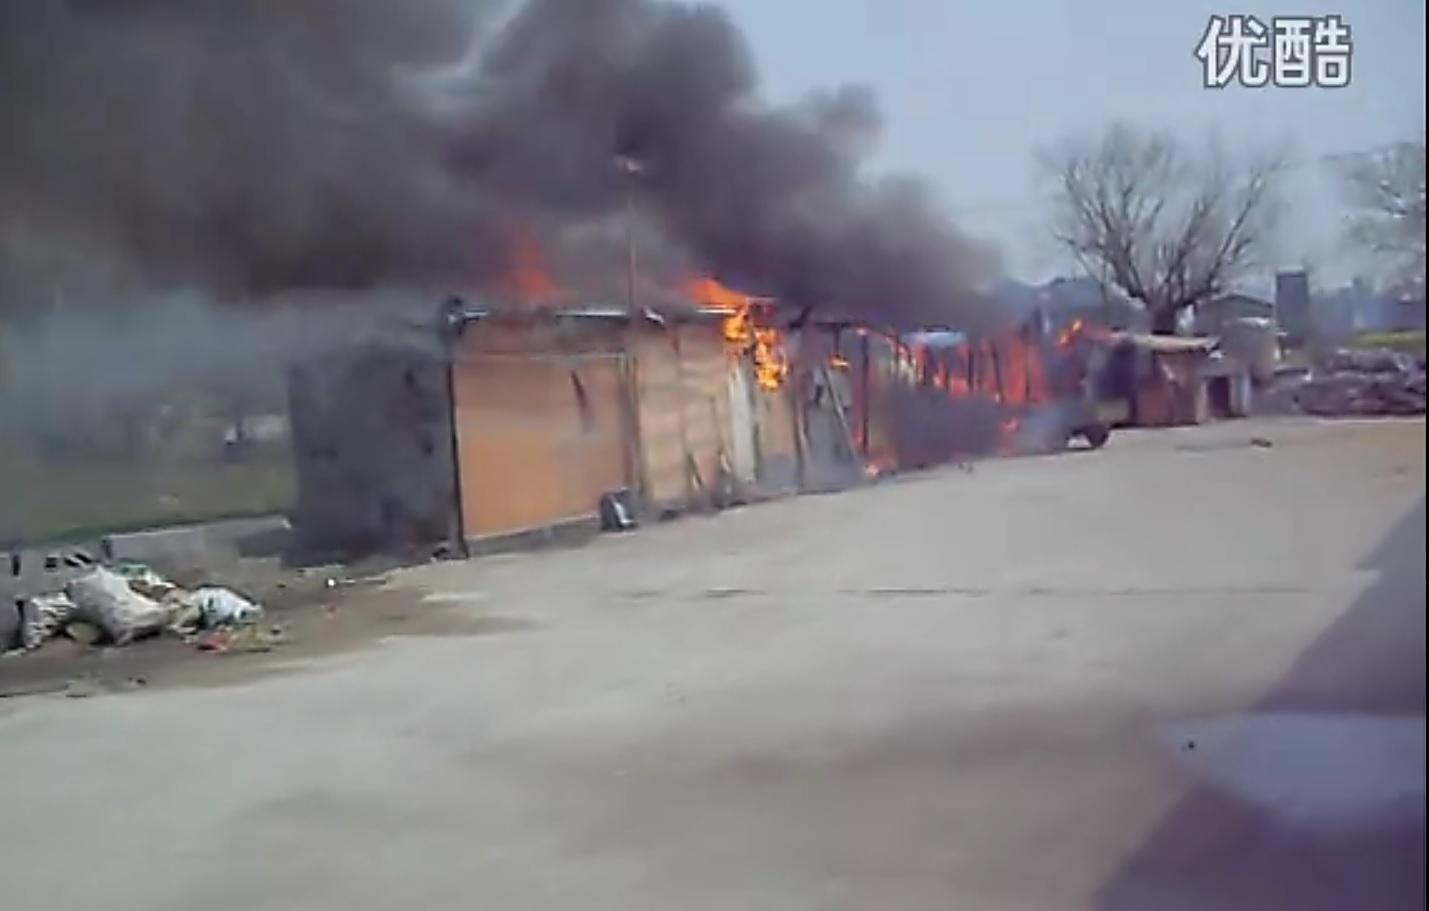fire: (699, 281, 789, 384)
